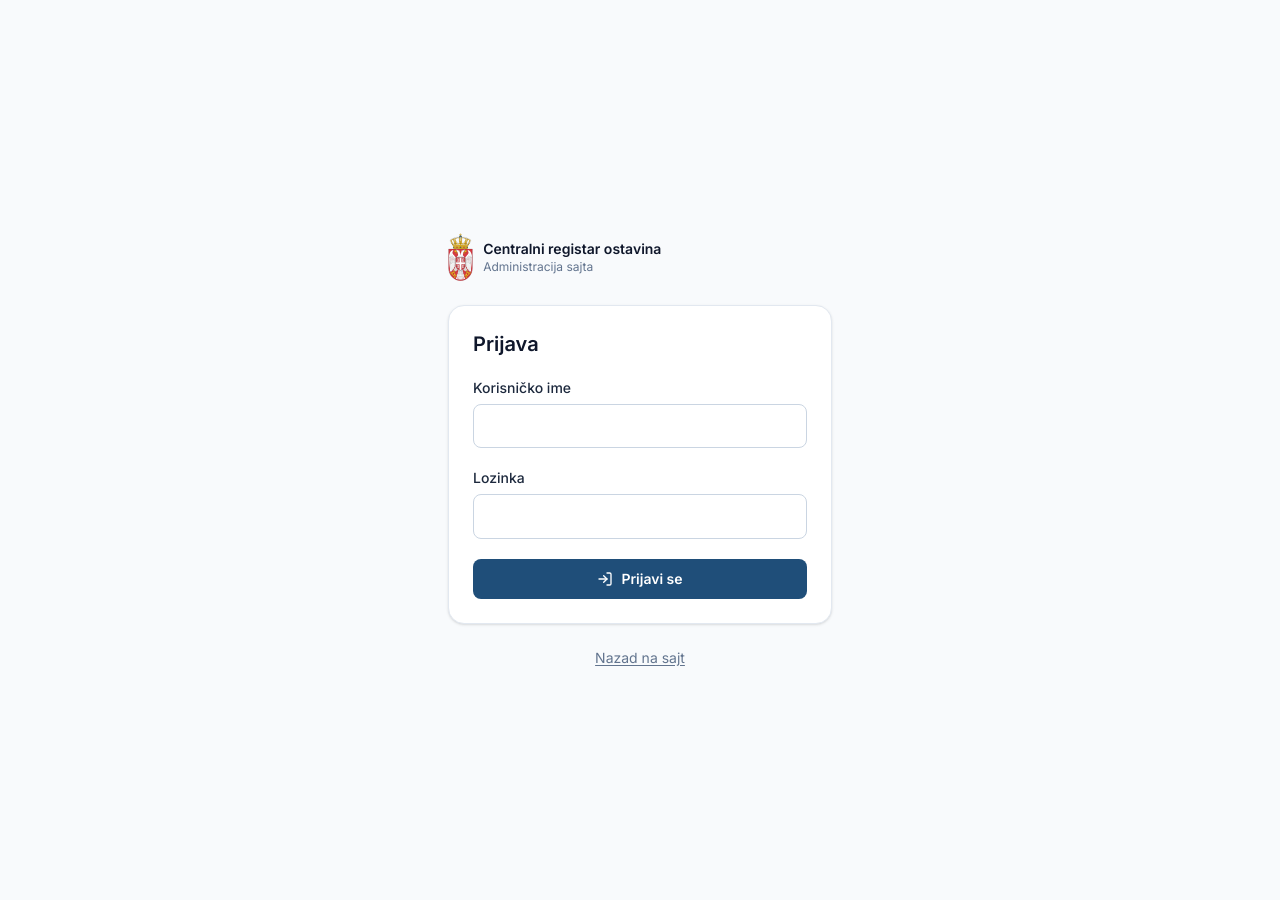
Scenario: administracija › posle prijave prikazuje sve upite i da li je prihvaćena politika privatnosti
The image size is (1280, 900).
Type "admin" into the field labelled "Korisničko ime" at (640, 426), box 473,404 -> 807,448
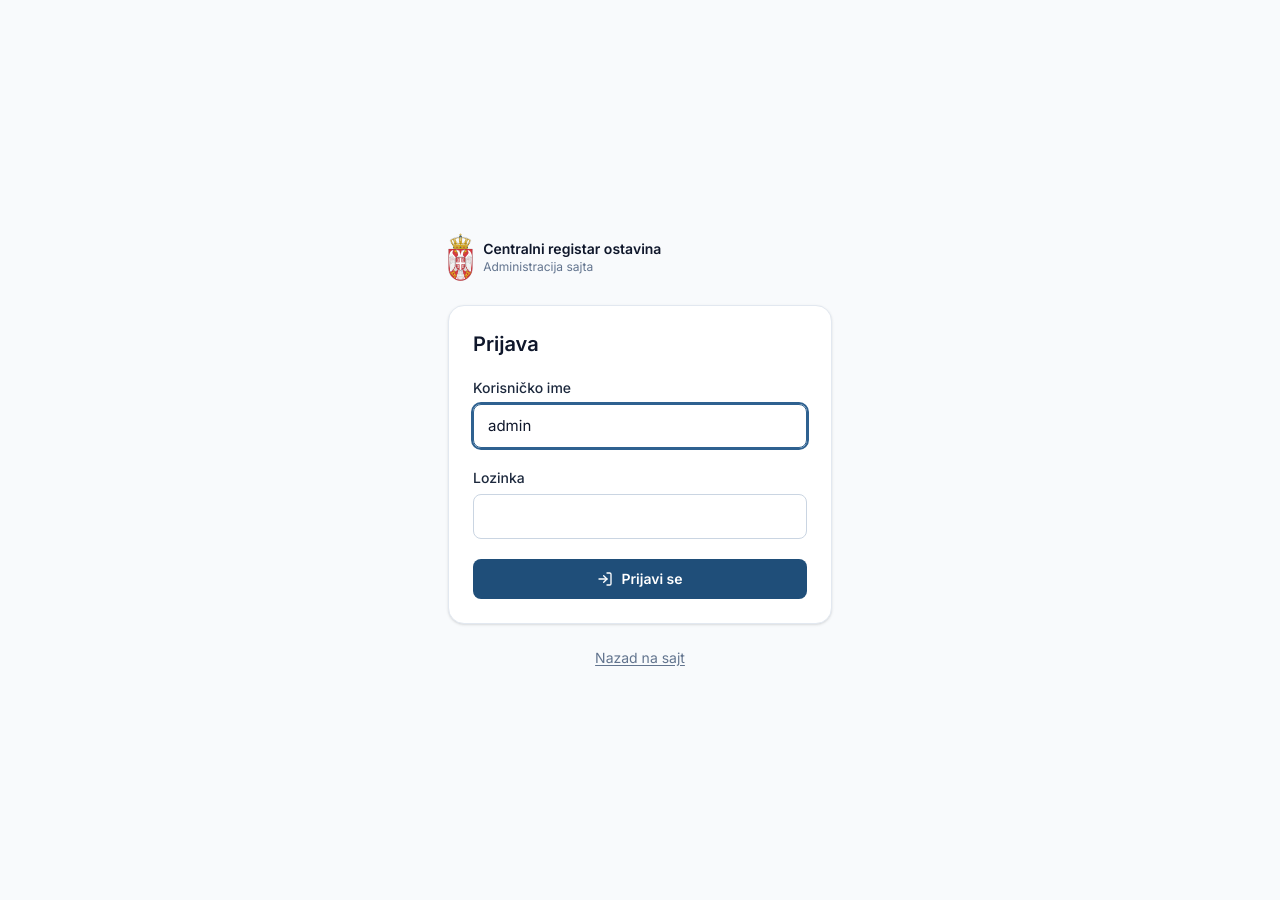
Type "tacna-lozinka" into the password field labelled "Lozinka" at (640, 516), box 473,494 -> 807,538
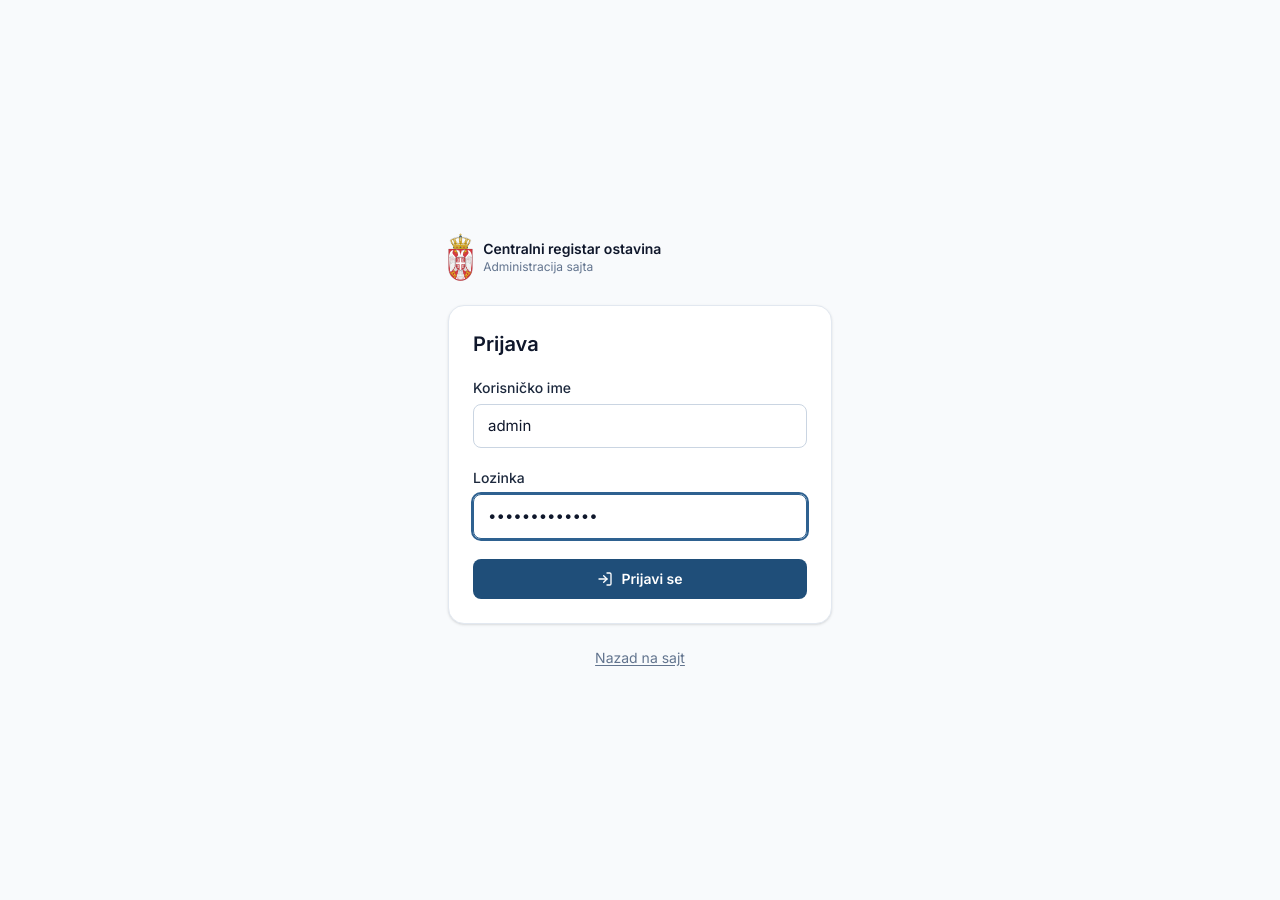
Click the button "Prijavi se" at (640, 578), box 473,558 -> 807,598
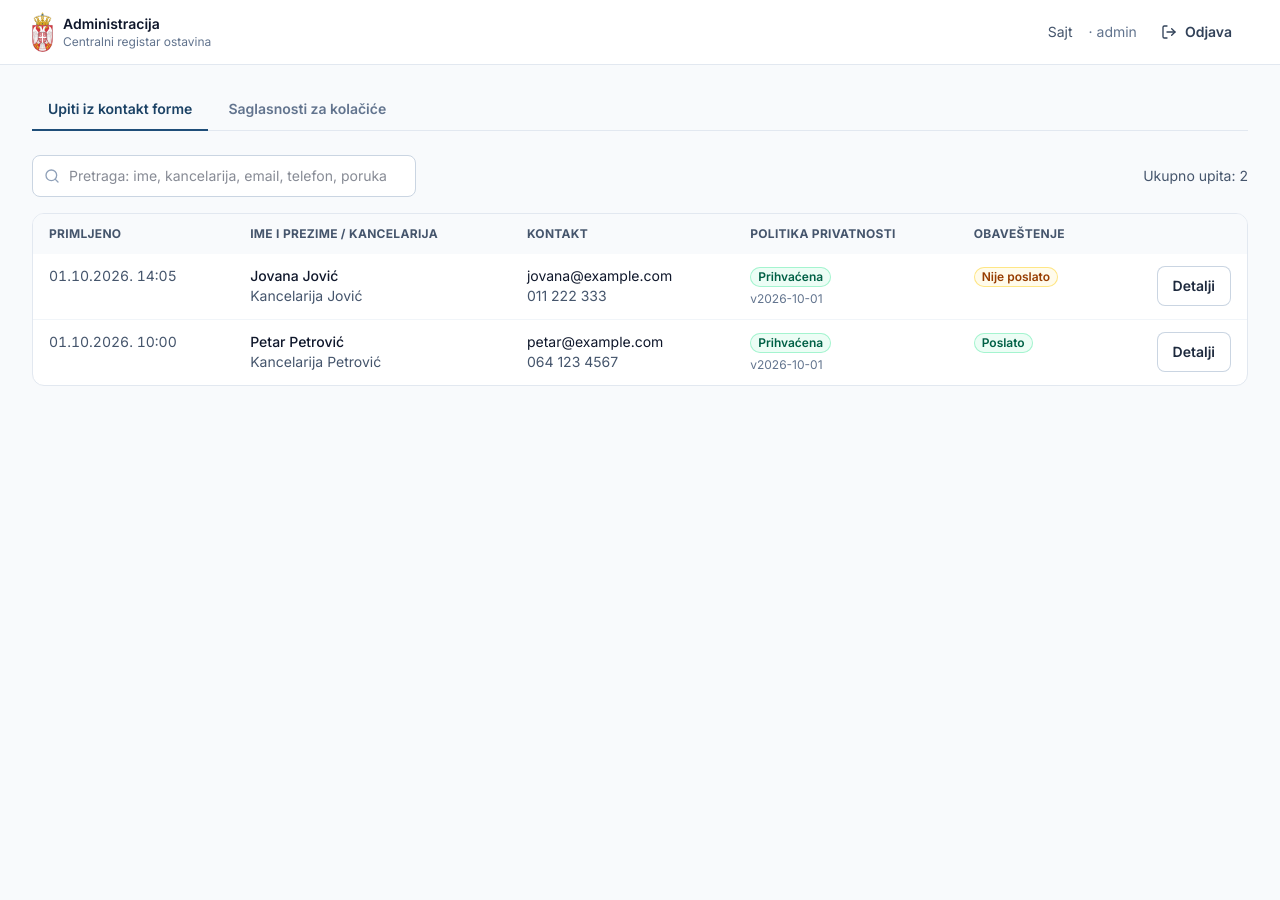
Now the row that starts with "Jovana Jović" is shown, box 250,267 -> 338,284
Now the row that starts with "Jovana Jović" shows "Kancelarija Jović", box 250,287 -> 362,304
Now the row that starts with "Jovana Jović" shows "jovana@example.com", box 527,267 -> 672,284
